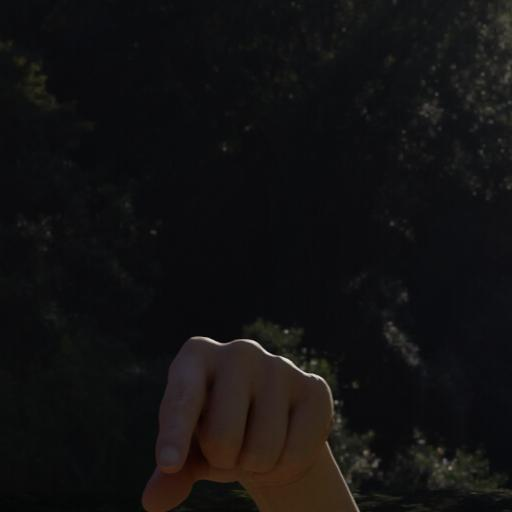Q: (128, 322, 362, 512)
